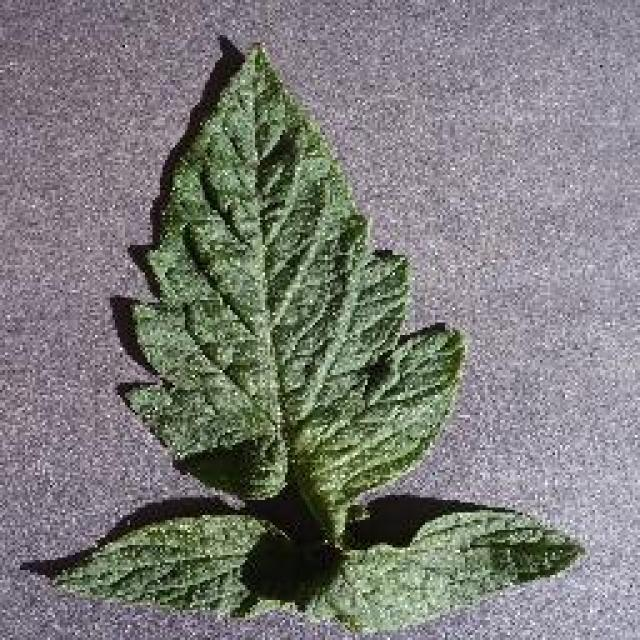Tomato healthy leaf: (112, 42, 468, 540), (30, 506, 335, 639), (306, 514, 589, 624)
